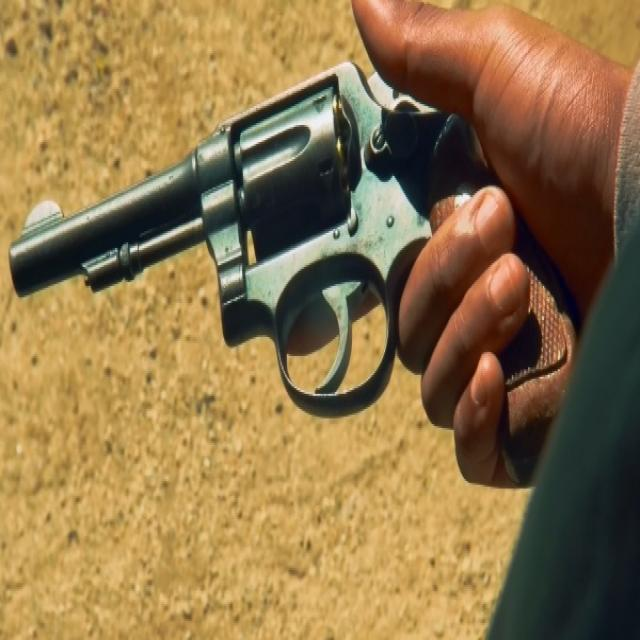weapons: (6, 36, 595, 482)
